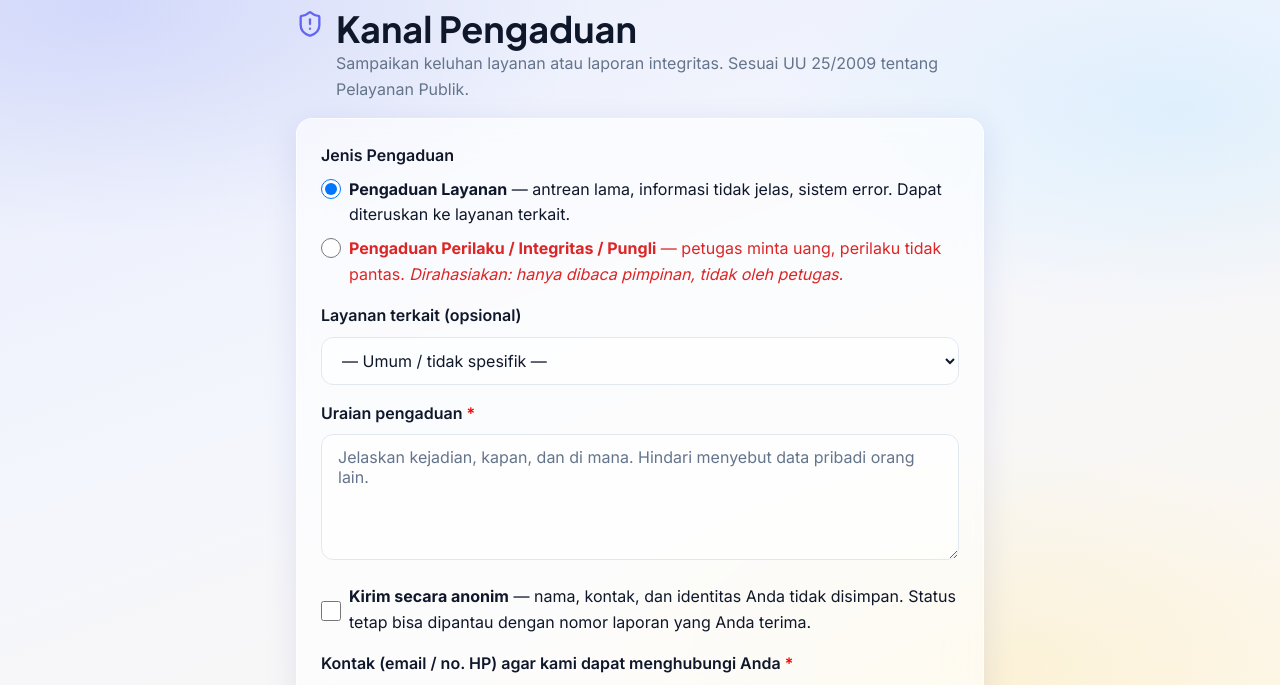
Test: /pengaduan (publik, anonim) › tidak anonim tanpa kontak ditolak di klien
Replace the text in the text box labelled "Uraian pengaduan *" with "Petugas meminta uang di luar tarif resmi saat saya mengurus izin." at [640, 497], box [321,434,959,560]
(page scrolled)
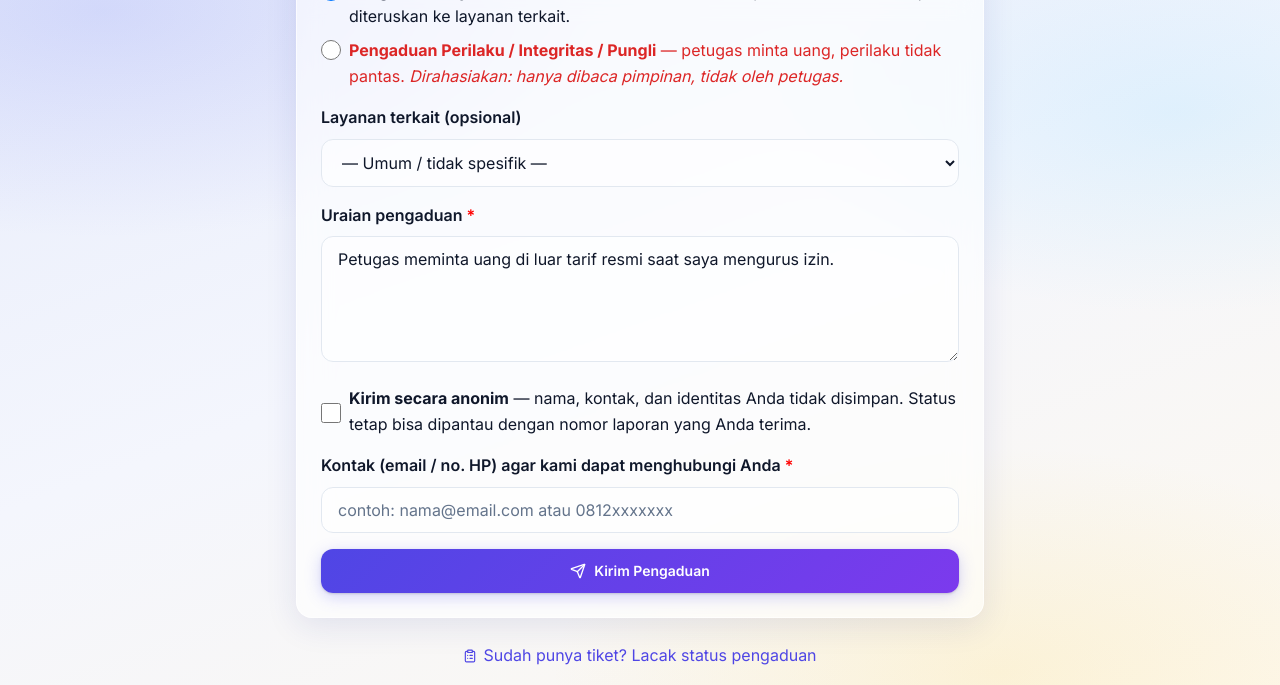
Click the button "Kirim Pengaduan" at [640, 571], box [321,549,959,593]
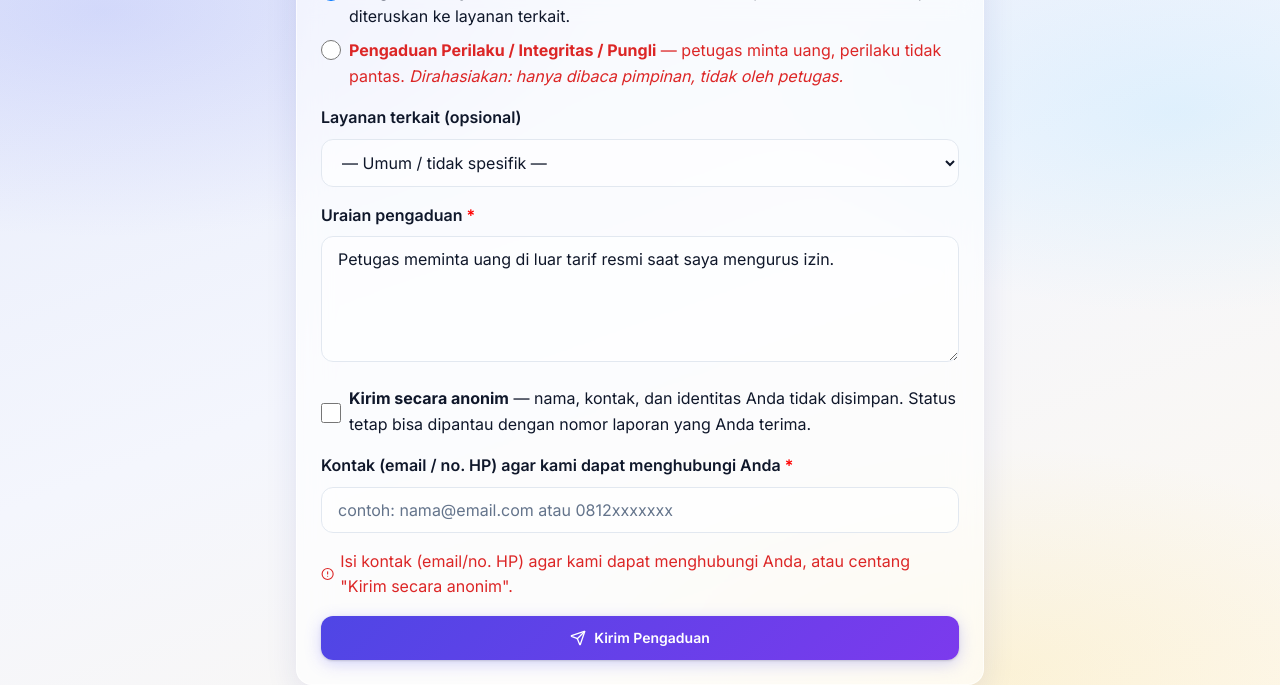
Now the text "Isi kontak" is shown, box [340,551,910,596]
